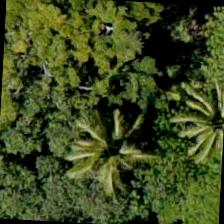Kelapa_Sawit: (58, 107, 152, 202)
